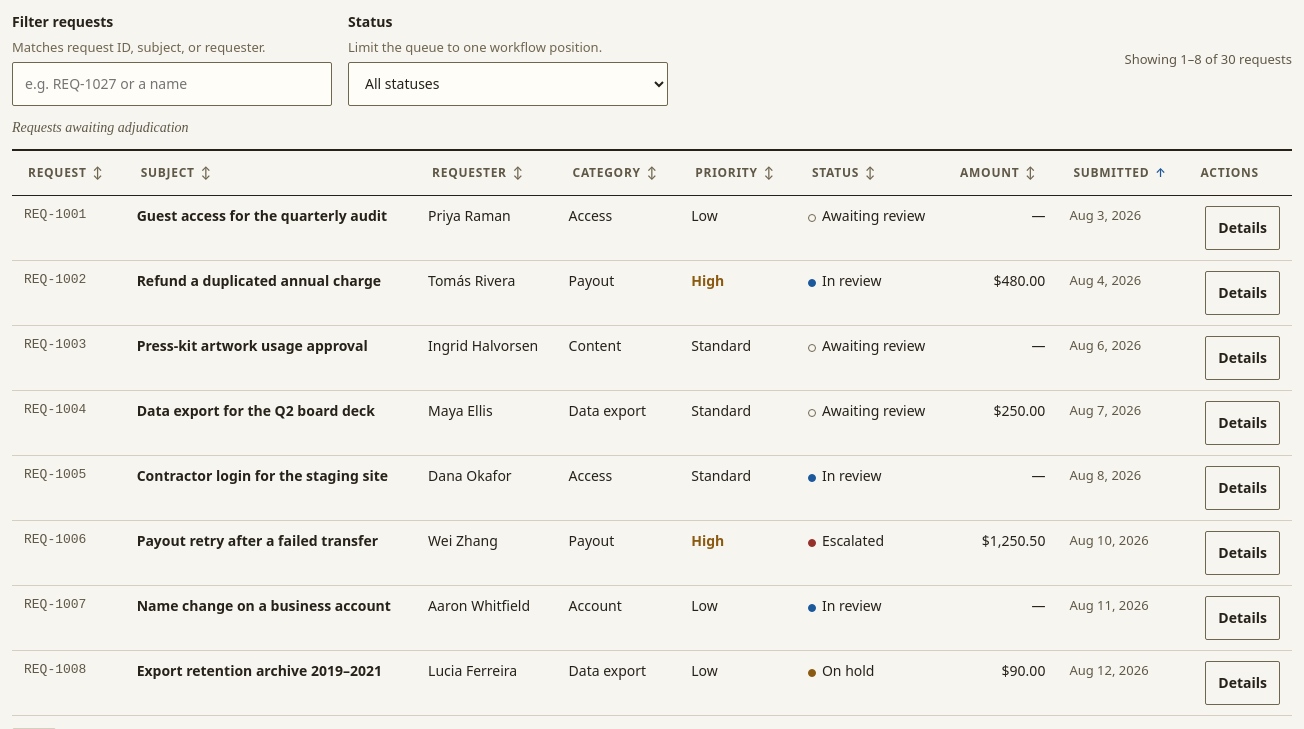
Test: RequestQueue › recovers from no results by clearing the filters
In the search field labelled "Filter requests": [172, 84] box [12,62,332,106], type "zzz"
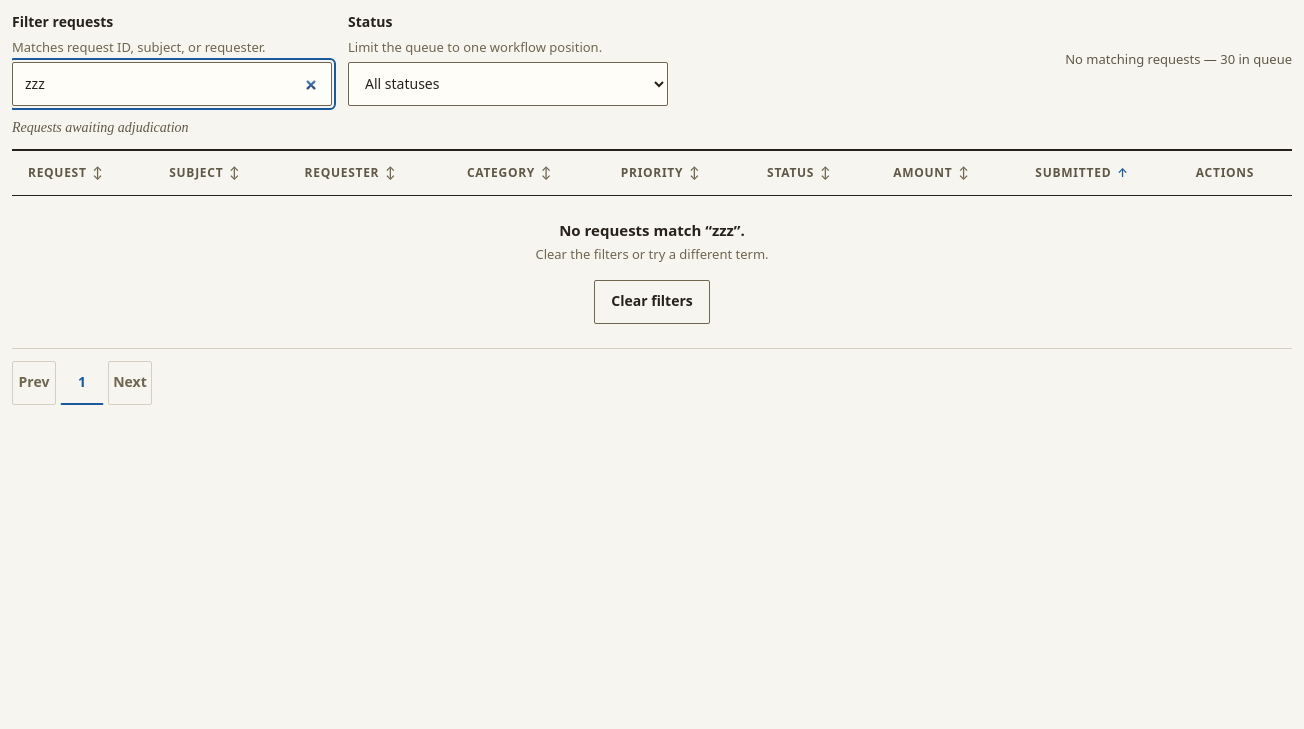
Expected: the text "No requests match “zzz”." is shown, [559,220,745,240]
Expected: the text "Clear the filters or try a different term." is shown, [535,245,768,263]
Expected: the button "Clear filters" is shown
Click the button "Clear filters": [652, 302] box [594,280,710,324]
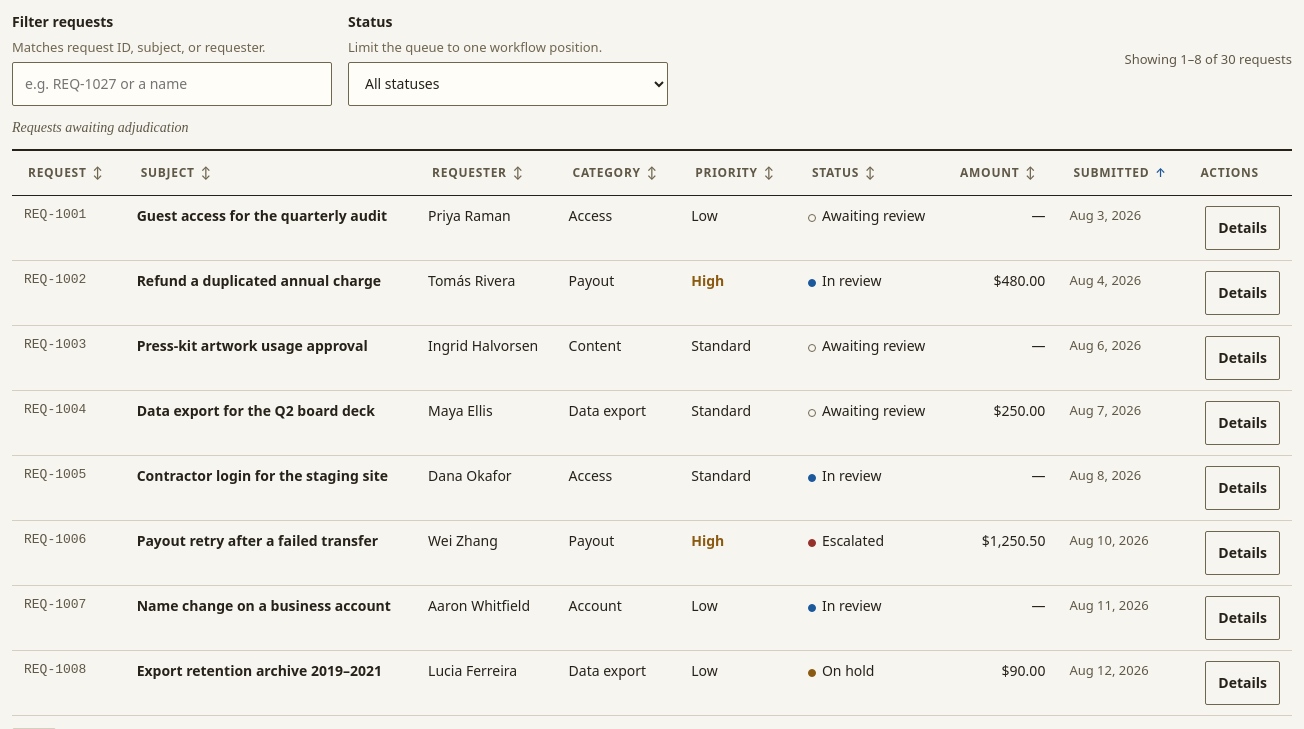
Expected: the text "Showing 1–8 of 30 requests" is shown, [1125,50,1292,68]
